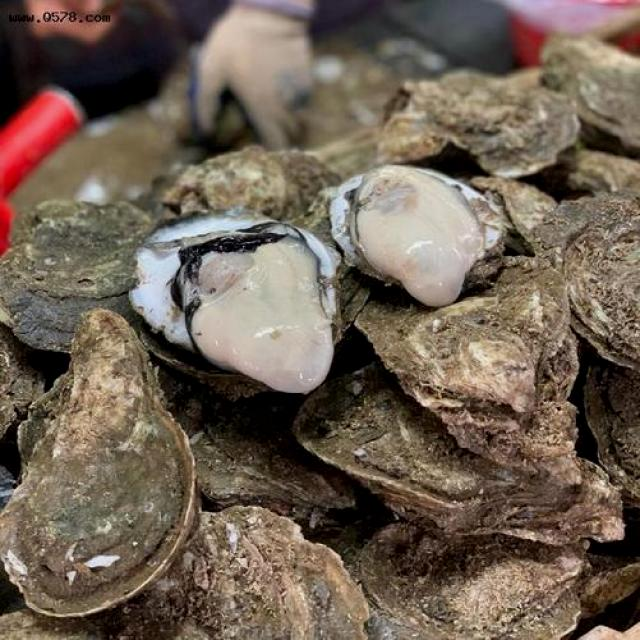Oyster-Closed: (0, 310, 201, 625), (280, 358, 622, 538), (346, 258, 602, 454), (330, 508, 614, 640), (134, 496, 370, 640), (6, 200, 161, 363), (152, 397, 356, 507), (402, 73, 580, 179), (532, 197, 640, 366), (164, 148, 340, 228), (538, 36, 640, 158), (460, 166, 544, 254), (544, 134, 640, 196), (374, 115, 473, 175)
Oyster-Open: (127, 215, 343, 396), (329, 166, 512, 295)
